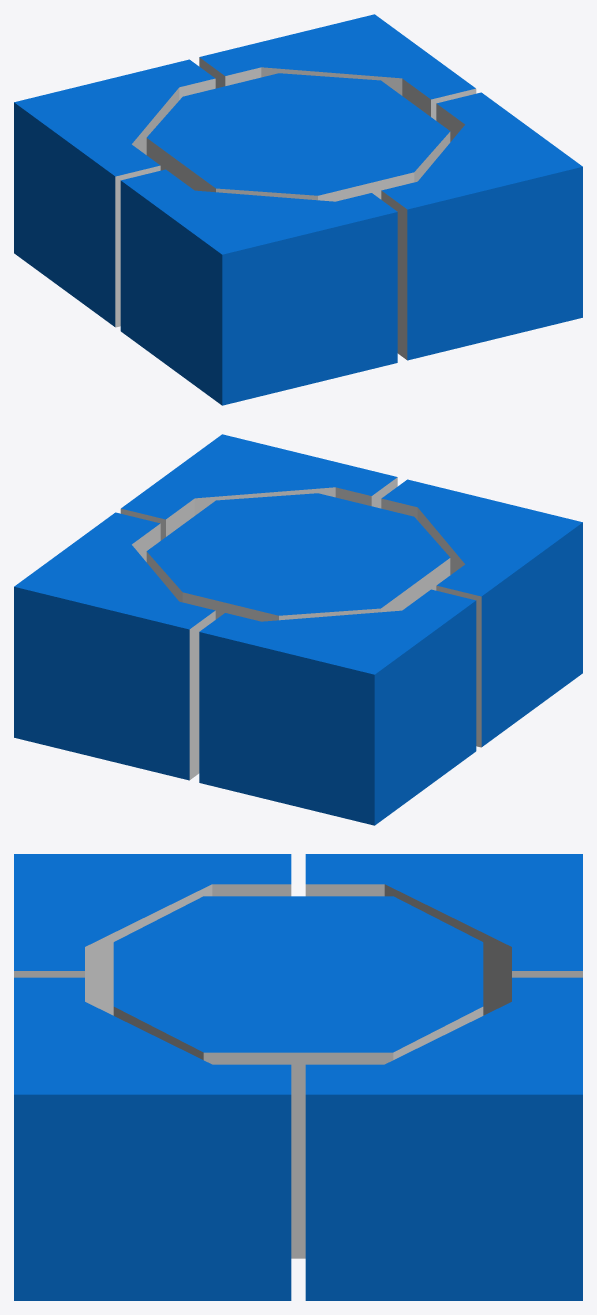
Rendered from Arena_3_Floor.fbx.
3 views of the same model, one above another, from view 1: azimuth 30°, elevation 25°; view 2: azimuth 150°, elevation 25°; view 3: azimuth 270°, elevation 25° (orthographic). The views are drawn at different scales.
Parts seen in each view (by area): view 1: Plane; view 2: Plane; view 3: Plane.
Boxes of the visible parts, x1,y1,x2,y2 form: Plane: (14, 14, 582, 405); Plane: (14, 434, 582, 825); Plane: (14, 854, 582, 1300).
Bounding box in the file's own units: 400 × 160 × 400.
